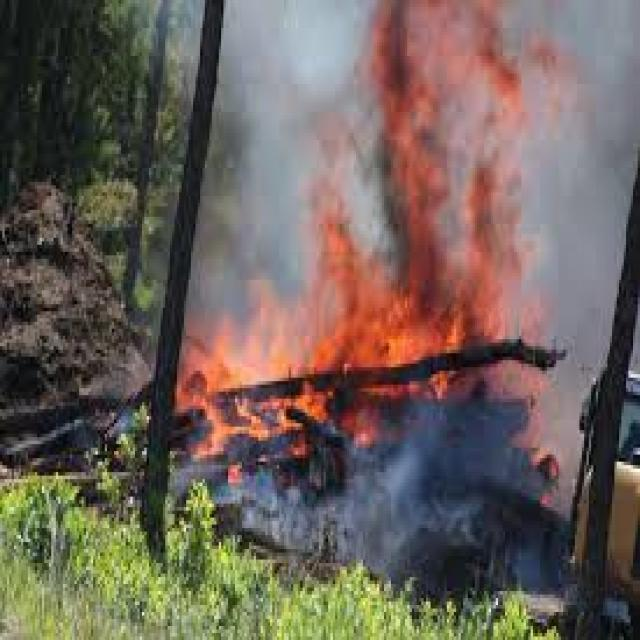Fire: (360, 0, 522, 349), (292, 125, 385, 368), (186, 306, 331, 452), (192, 270, 418, 358)
Smoke: (238, 0, 635, 181), (516, 0, 610, 321), (234, 7, 314, 340), (363, 388, 488, 509)
